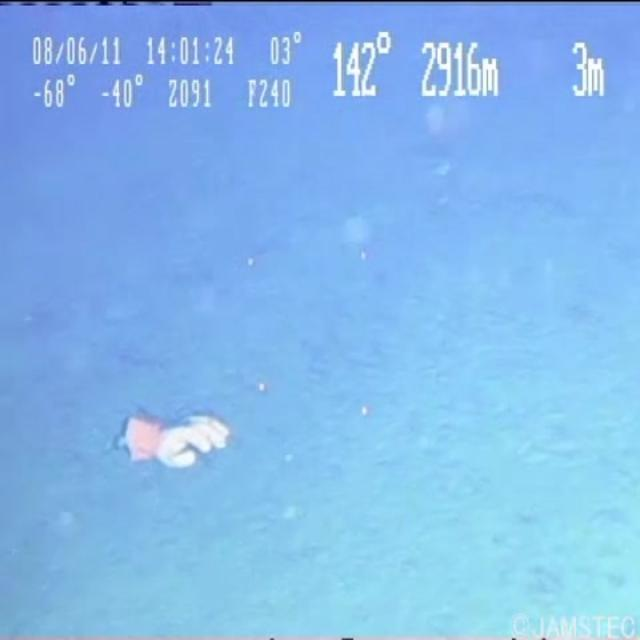Accessories: (112, 399, 235, 486)
